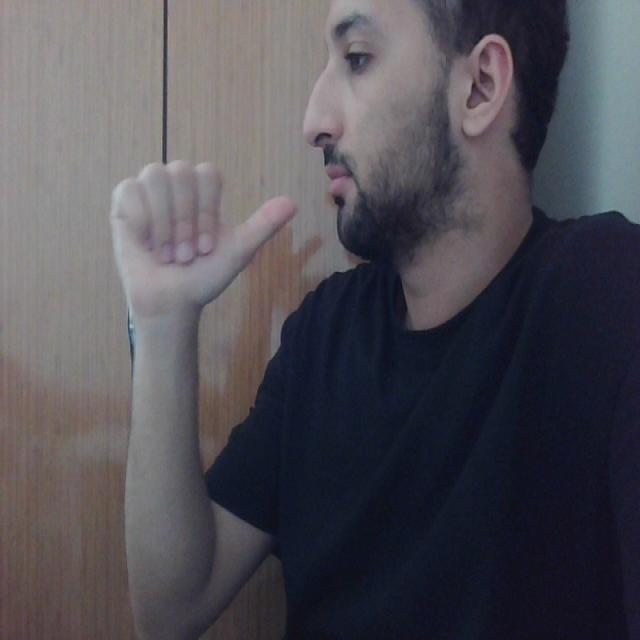icmek: (85, 106, 363, 318)
